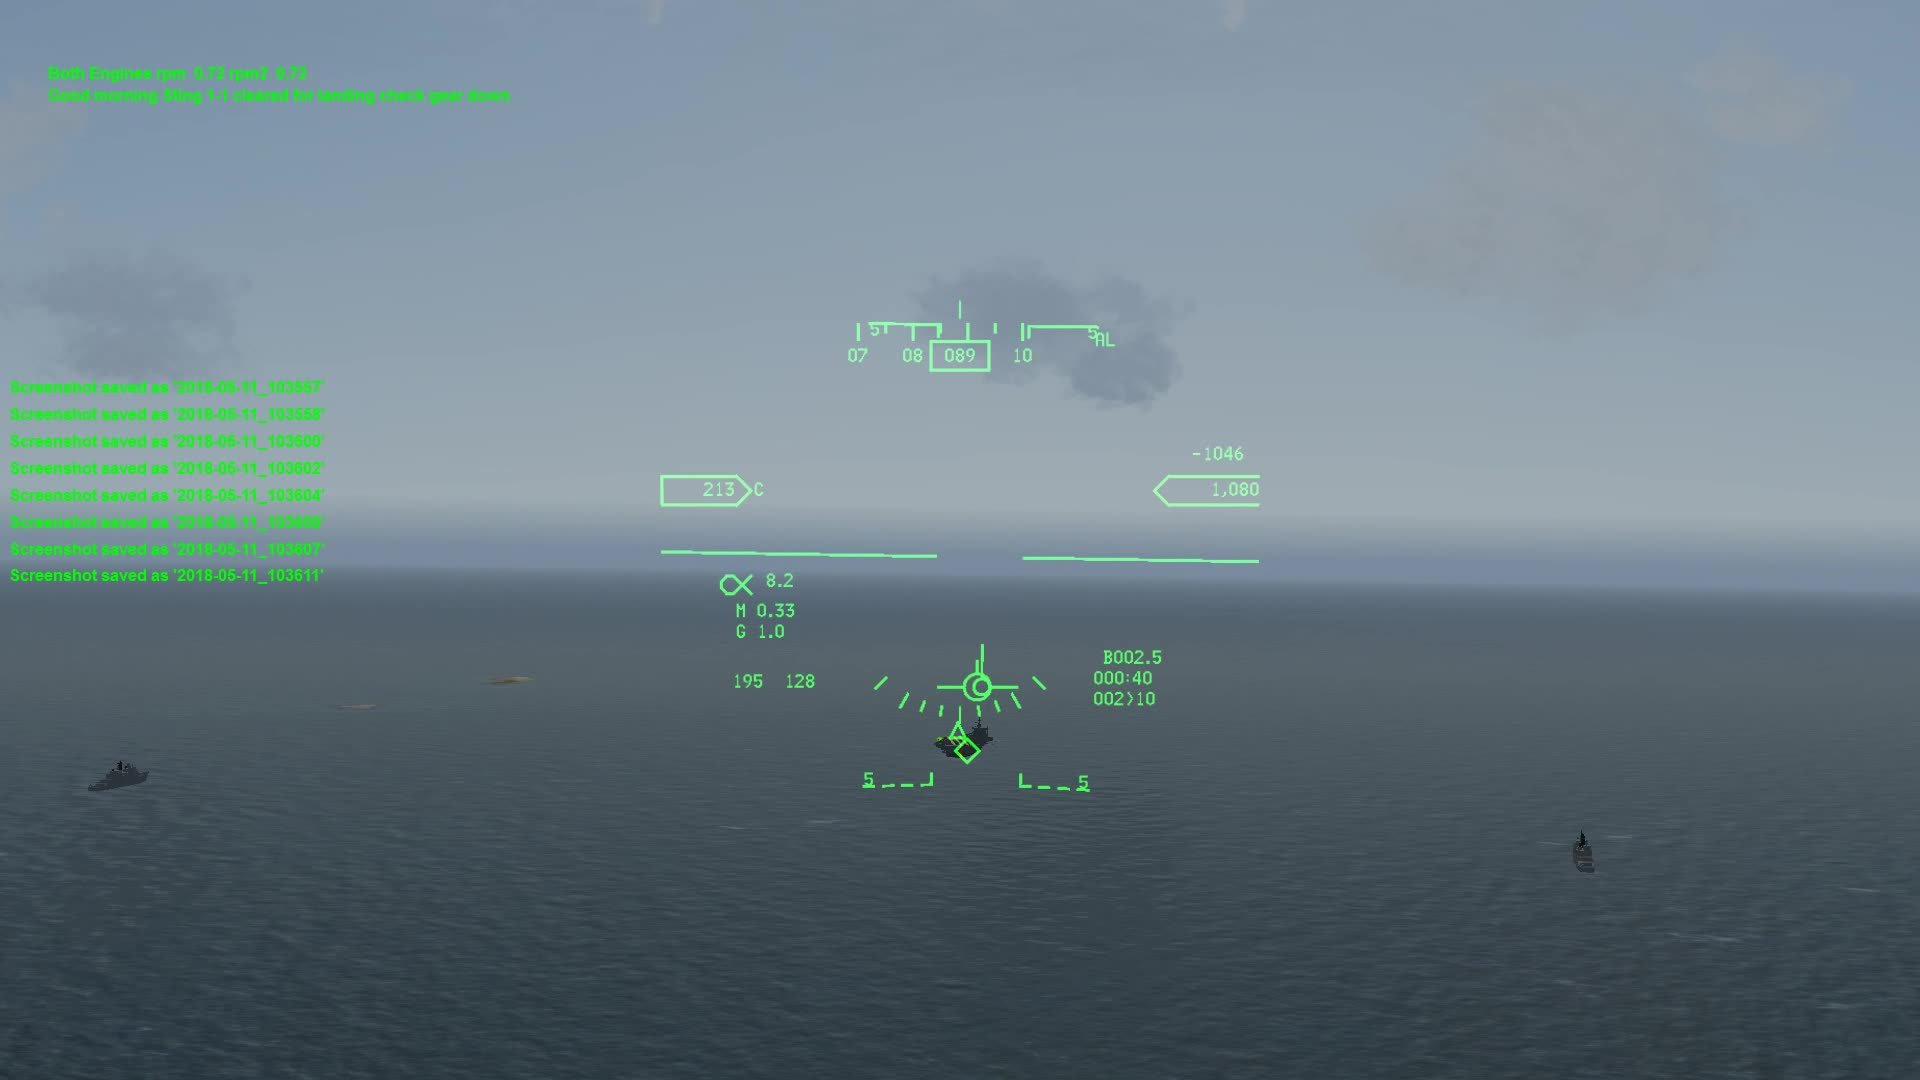speed vector: (923, 621, 1027, 703)
